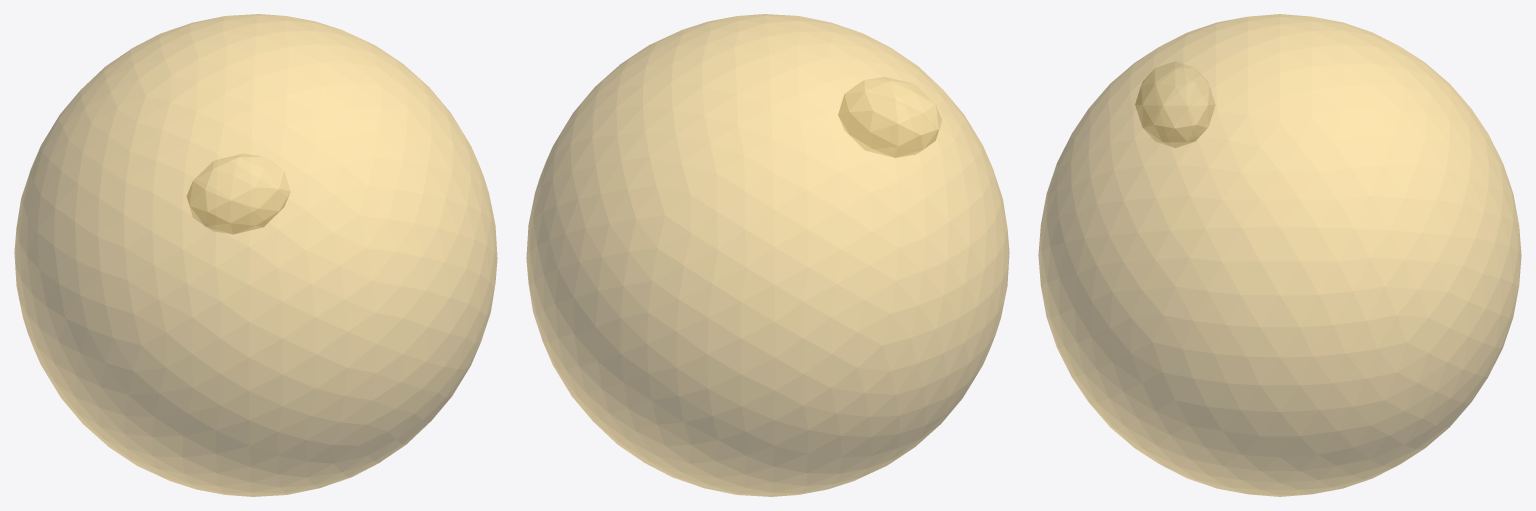
File: glucose_blob.glb
3 views of the same model, side by side, from view 1: azimuth 30°, elevation 25°; view 2: azimuth 150°, elevation 25°; view 3: azimuth 270°, elevation 25° (orthographic).
Parts seen in each view (by area): view 1: glucose_blob, glucose_highlight; view 2: glucose_blob, glucose_highlight; view 3: glucose_blob, glucose_highlight.
Part boxes in pixels (x1,y1,x2,y2): glucose_blob: [14, 14, 497, 496]; glucose_highlight: [186, 153, 290, 234]; glucose_blob: [526, 14, 1009, 496]; glucose_highlight: [838, 77, 941, 157]; glucose_blob: [1038, 14, 1521, 496]; glucose_highlight: [1135, 61, 1215, 147].
Size of the model in its own units: 0.3 by 0.3 by 0.3.
